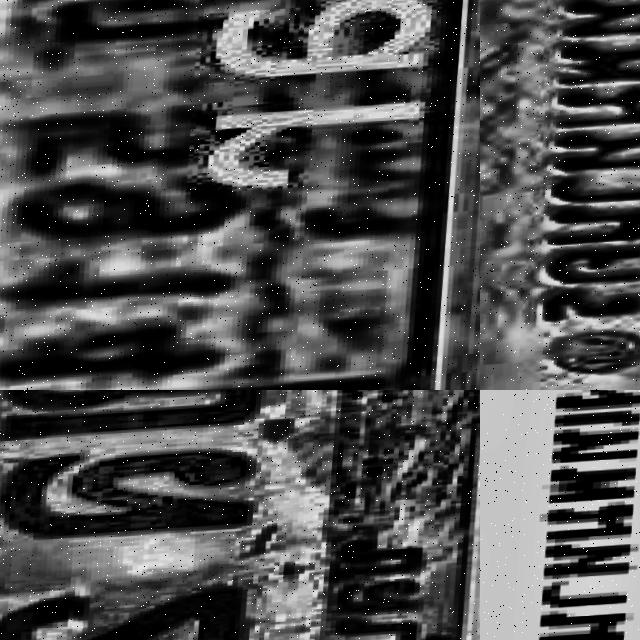license-plate: (0, 0, 480, 390), (0, 390, 480, 640), (480, 0, 640, 390), (480, 390, 640, 640)
